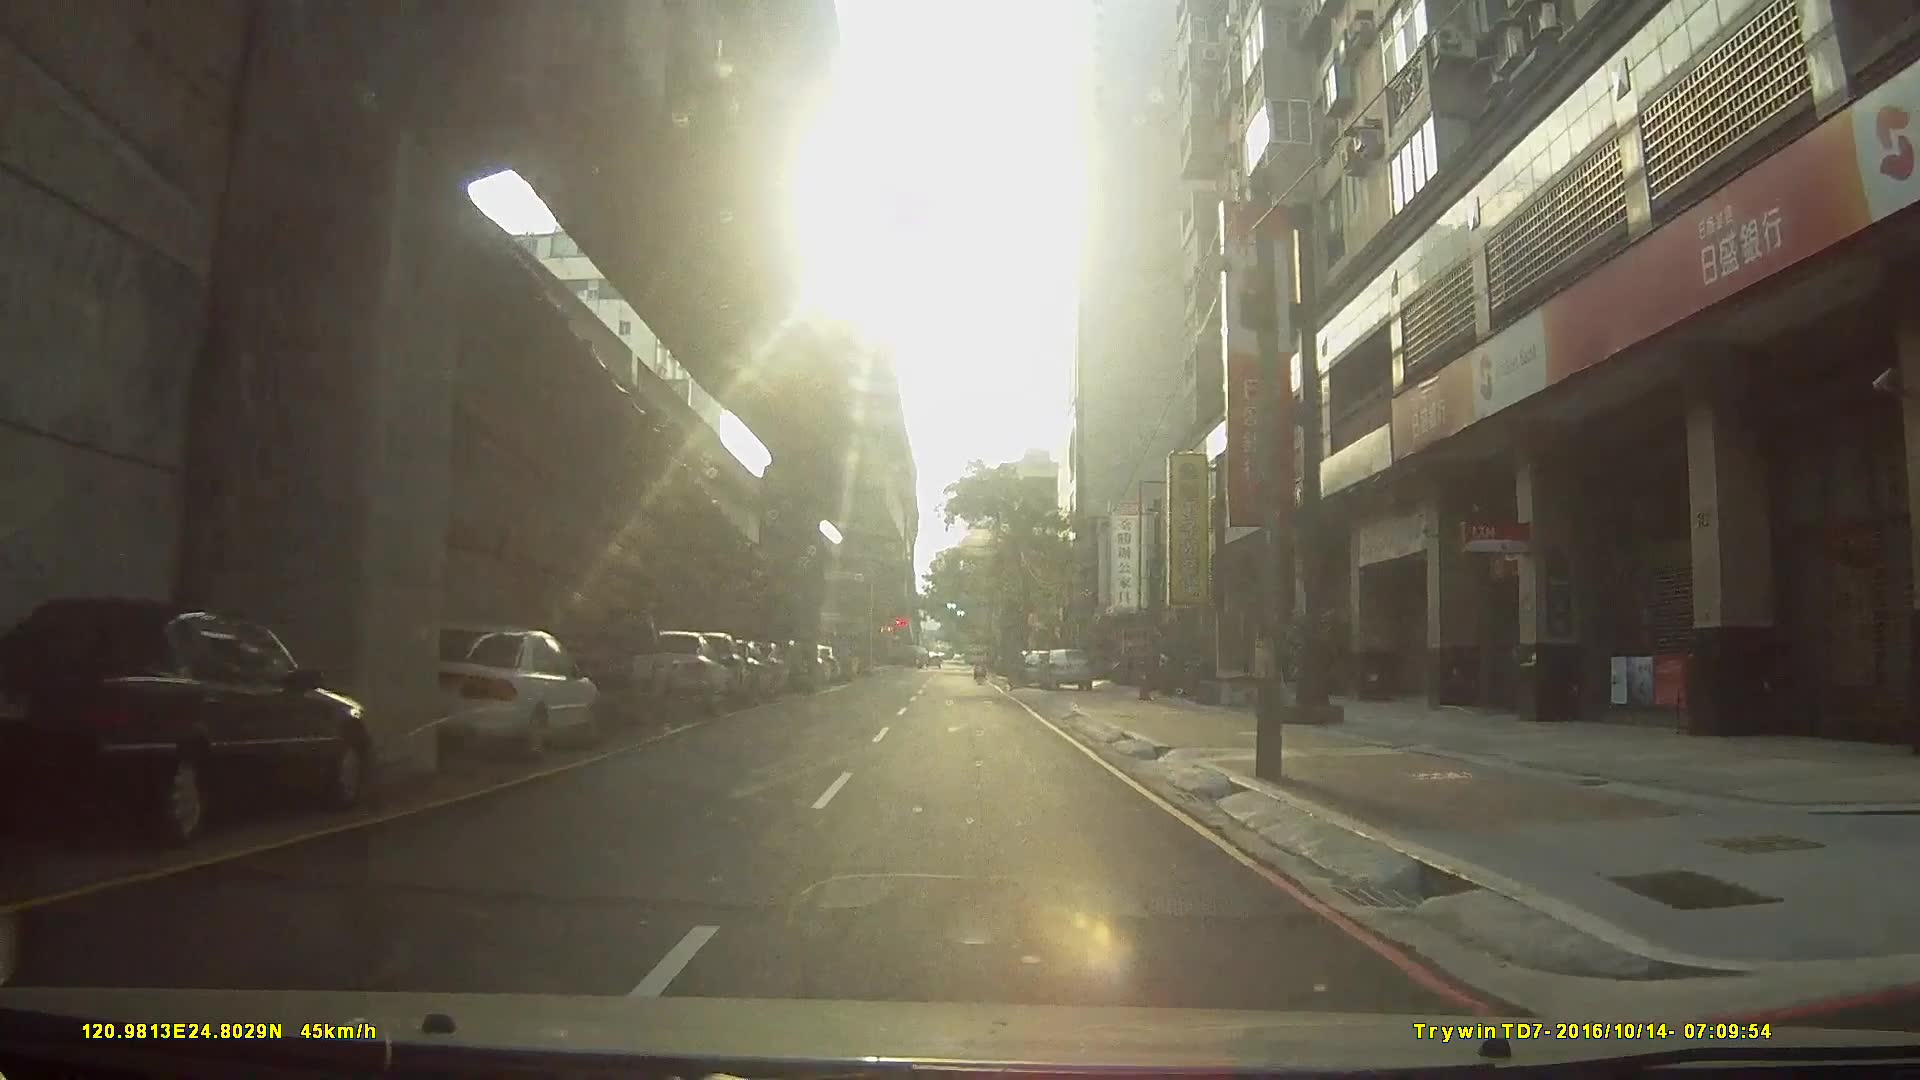vehicle: (0, 592, 371, 847), (398, 617, 597, 760), (513, 603, 673, 727), (622, 626, 735, 715), (659, 620, 794, 670), (1035, 645, 1095, 691)
